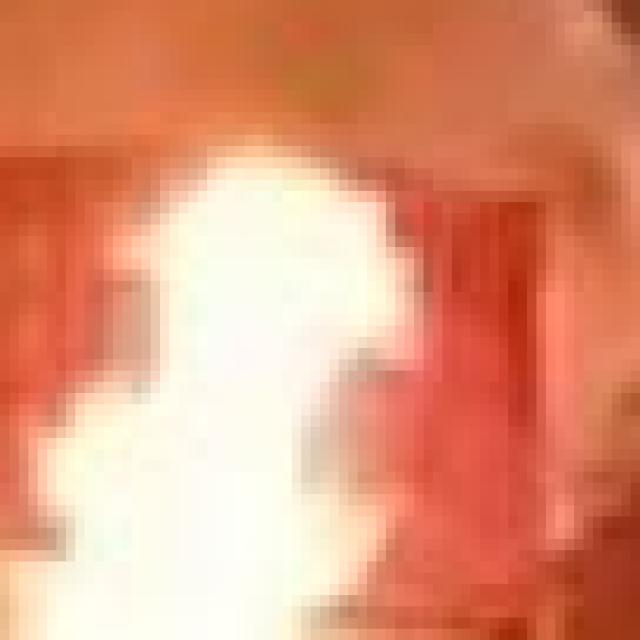fire: (9, 0, 640, 640)
